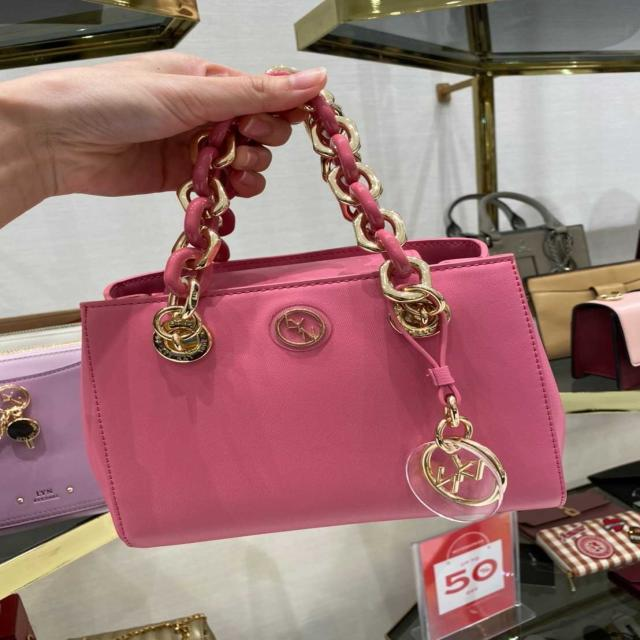handbag: (76, 221, 582, 548)
